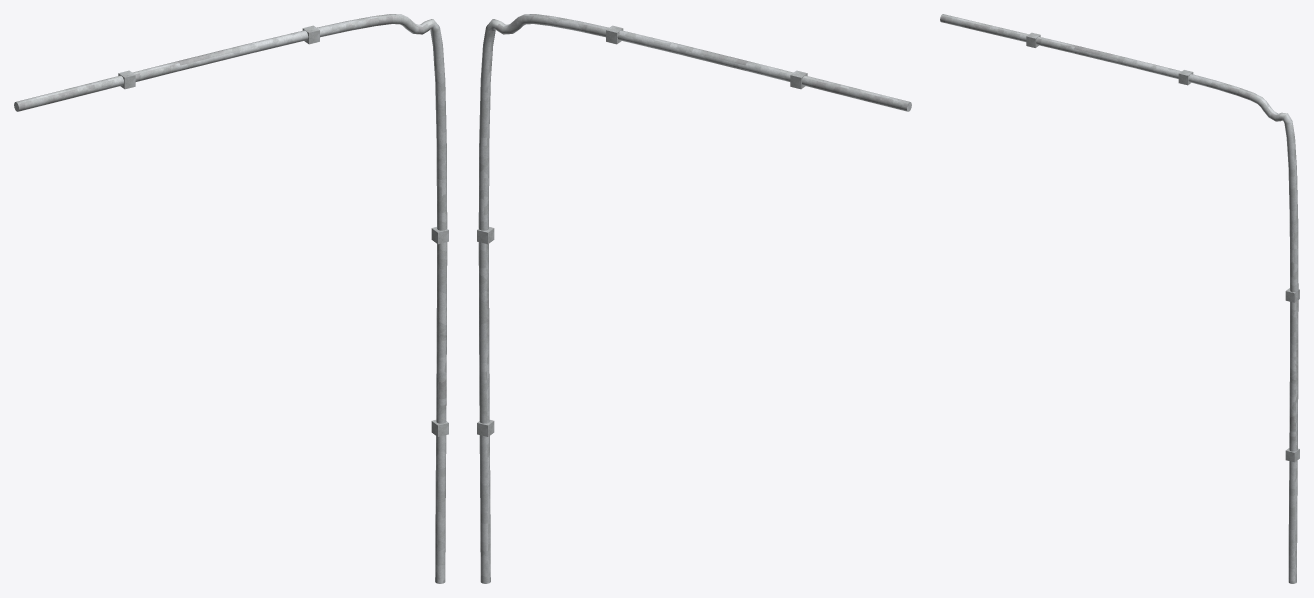
Rendered from C21c_Conduit.fbx.
3 views of the same model, side by side, from view 1: azimuth 30°, elevation 25°; view 2: azimuth 150°, elevation 25°; view 3: azimuth 330°, elevation 25° (orthographic). The views are drawn at different scales.
Parts seen in each view (by area): view 1: EMT_Pipe; view 2: EMT_Pipe; view 3: EMT_Pipe.
Boxes of the visible parts, bbox=[...] form: EMT_Pipe: bbox=[14, 14, 447, 583]; EMT_Pipe: bbox=[478, 14, 911, 583]; EMT_Pipe: bbox=[940, 14, 1298, 583].
Size of the model in its own units: 1.17 by 1.52 by 0.03.
1 material, 1 textured.
